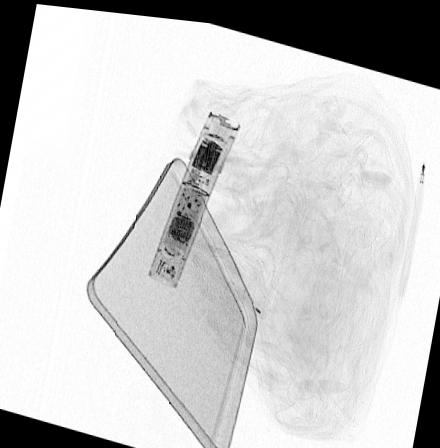Baton: (147, 104, 241, 284)
